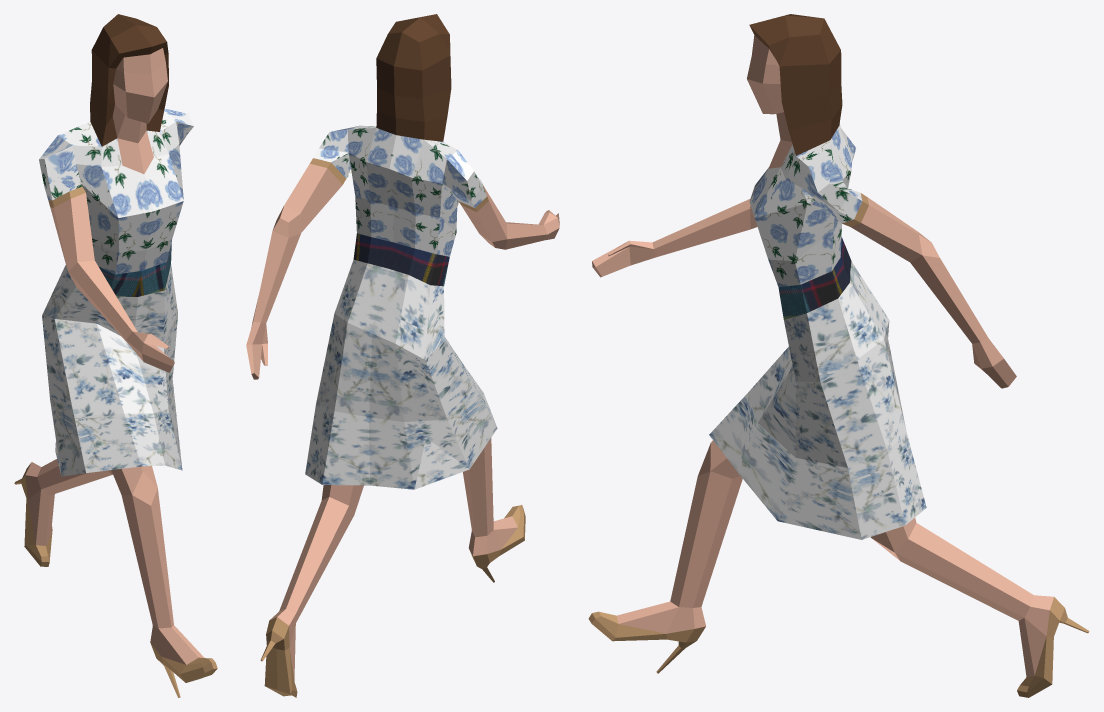
Rendered from SpringWomanC.004.glb.
3 renders of one model, left to right at view 1: azimuth 30°, elevation 25°; view 2: azimuth 150°, elevation 25°; view 3: azimuth 270°, elevation 25°, orthographic. The views are drawn at different scales.
Parts seen in each view (by area): view 1: SpringWomanC.004; view 2: SpringWomanC.004; view 3: SpringWomanC.004.
Boxes of the visible parts, x1,y1,x2,y2 form: SpringWomanC.004: [14, 14, 217, 697]; SpringWomanC.004: [246, 14, 559, 697]; SpringWomanC.004: [588, 14, 1089, 697].
Bounding box in the file's own units: 0.4294 × 1.57 × 1.07.
Materials: 1 (1 with a texture image).
